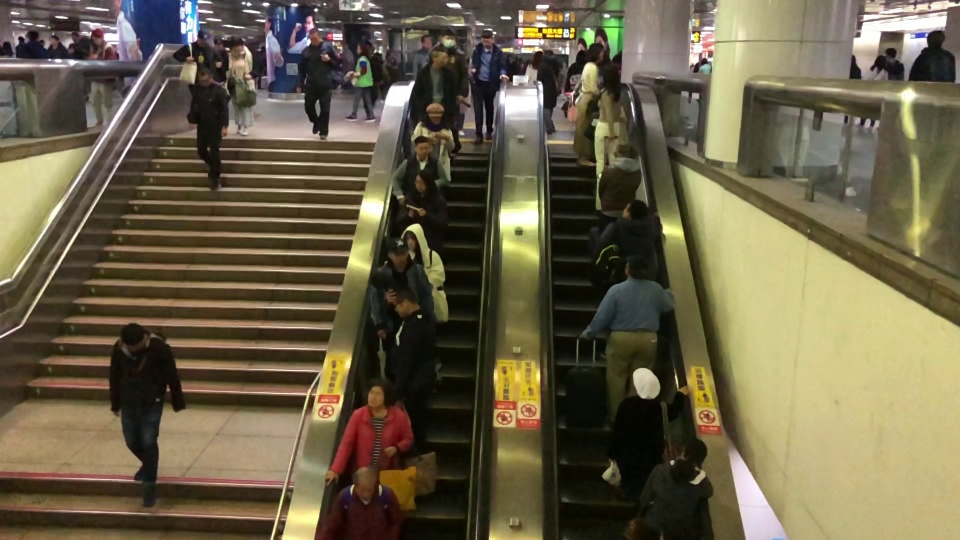person_head: (363, 377, 394, 408), (392, 286, 419, 318), (351, 466, 375, 498), (119, 323, 147, 349), (681, 438, 708, 462), (622, 199, 649, 221), (637, 376, 660, 399), (413, 169, 435, 192), (625, 257, 648, 278), (387, 246, 409, 266), (440, 27, 457, 48), (413, 136, 430, 157), (602, 64, 619, 84), (586, 43, 604, 61), (926, 30, 945, 47), (197, 67, 214, 85), (431, 50, 447, 66), (427, 107, 442, 124), (616, 144, 635, 157), (406, 229, 418, 248), (480, 30, 495, 45), (308, 28, 321, 44), (196, 31, 209, 46), (420, 34, 433, 49), (230, 38, 244, 51), (25, 29, 40, 40), (531, 51, 542, 63), (91, 31, 101, 44), (356, 42, 367, 53), (874, 55, 885, 66), (885, 47, 897, 57), (576, 50, 584, 62), (50, 35, 59, 45), (71, 31, 79, 41), (3, 40, 10, 50), (545, 49, 553, 57), (851, 55, 857, 64), (701, 57, 707, 63)
person_vbox: (580, 257, 674, 431), (108, 323, 187, 511), (606, 376, 689, 498), (325, 377, 414, 485), (638, 438, 714, 540), (316, 466, 401, 540), (387, 286, 437, 408), (369, 246, 434, 339), (594, 199, 660, 285), (295, 28, 343, 142), (593, 64, 629, 213), (186, 68, 229, 191), (468, 29, 508, 147), (405, 229, 450, 322), (571, 43, 604, 167), (391, 136, 448, 206), (598, 143, 643, 230), (409, 51, 457, 131), (410, 107, 455, 181), (428, 27, 470, 106), (173, 31, 224, 95), (85, 31, 118, 127), (224, 38, 256, 137), (398, 169, 448, 230), (344, 42, 377, 123), (907, 30, 955, 82), (857, 55, 888, 131), (537, 49, 562, 134), (68, 30, 90, 101), (842, 54, 861, 123), (412, 34, 433, 82), (564, 50, 585, 94), (21, 29, 48, 57), (884, 47, 905, 80), (524, 50, 543, 82), (698, 58, 711, 103), (47, 34, 68, 58)
